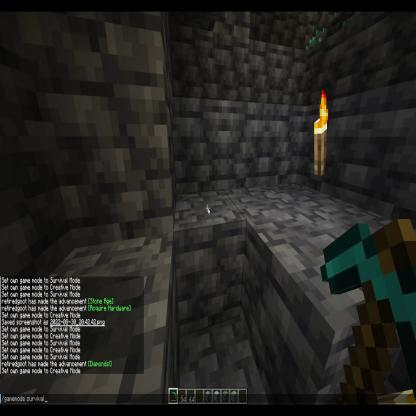diamond ore: (306, 22, 330, 58)
